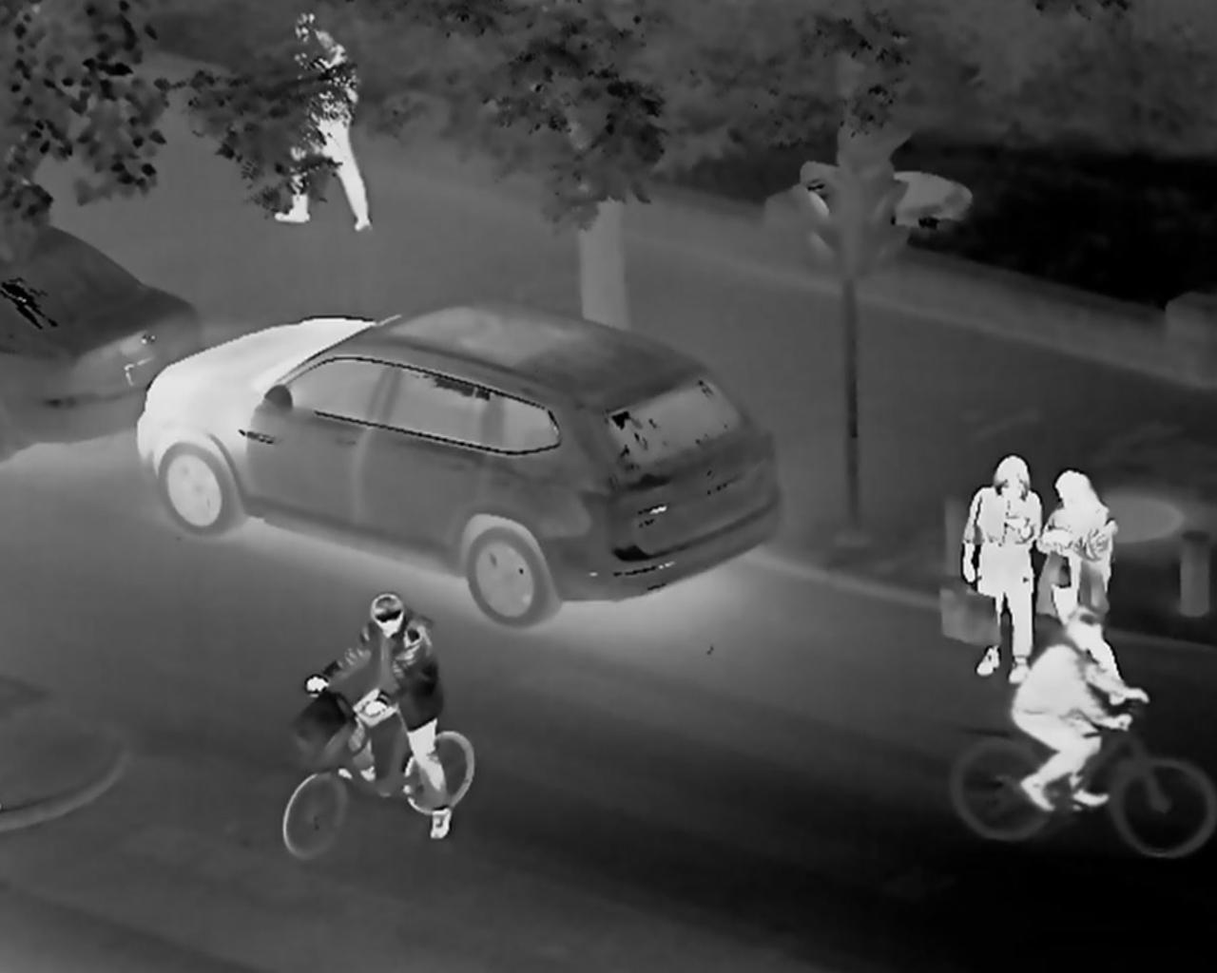person: (1004, 614, 1154, 808), (326, 587, 440, 735), (279, 44, 363, 212), (1057, 447, 1123, 621), (977, 448, 1025, 638)
